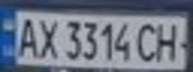1: (97, 19, 118, 61)
3: (60, 17, 84, 61), (78, 18, 100, 61)
4: (112, 19, 136, 62)
A: (12, 15, 42, 60)
C: (133, 19, 163, 63)
H: (151, 19, 187, 63)
X: (33, 15, 60, 61)
